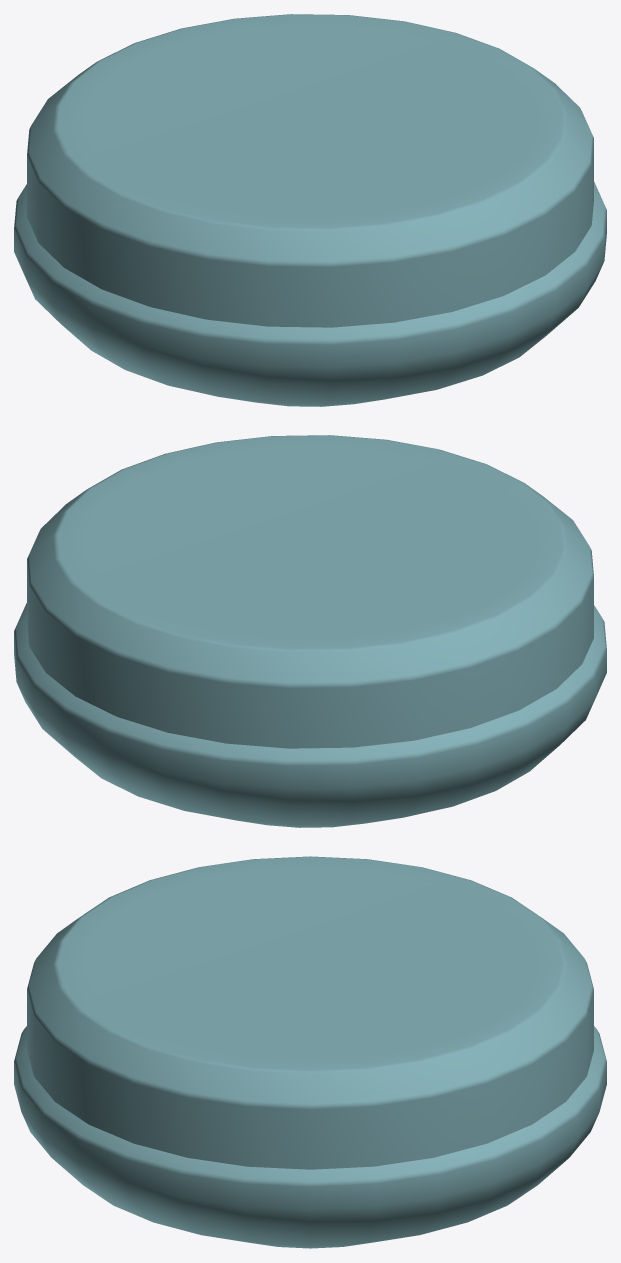
The model's file is table_plazma_modul.fbx.
3 views of the same model, one above another, from view 1: azimuth 30°, elevation 25°; view 2: azimuth 150°, elevation 25°; view 3: azimuth 270°, elevation 25° (orthographic).
Visible parts, largest first — view 1: table_plazma_modul; view 2: table_plazma_modul; view 3: table_plazma_modul.
Part boxes in pixels (<box>): table_plazma_modul: <box>14,14,606,406</box>; table_plazma_modul: <box>14,435,606,827</box>; table_plazma_modul: <box>14,856,606,1248</box>.
Size of the model in its own units: 225 by 93.42 by 225.
